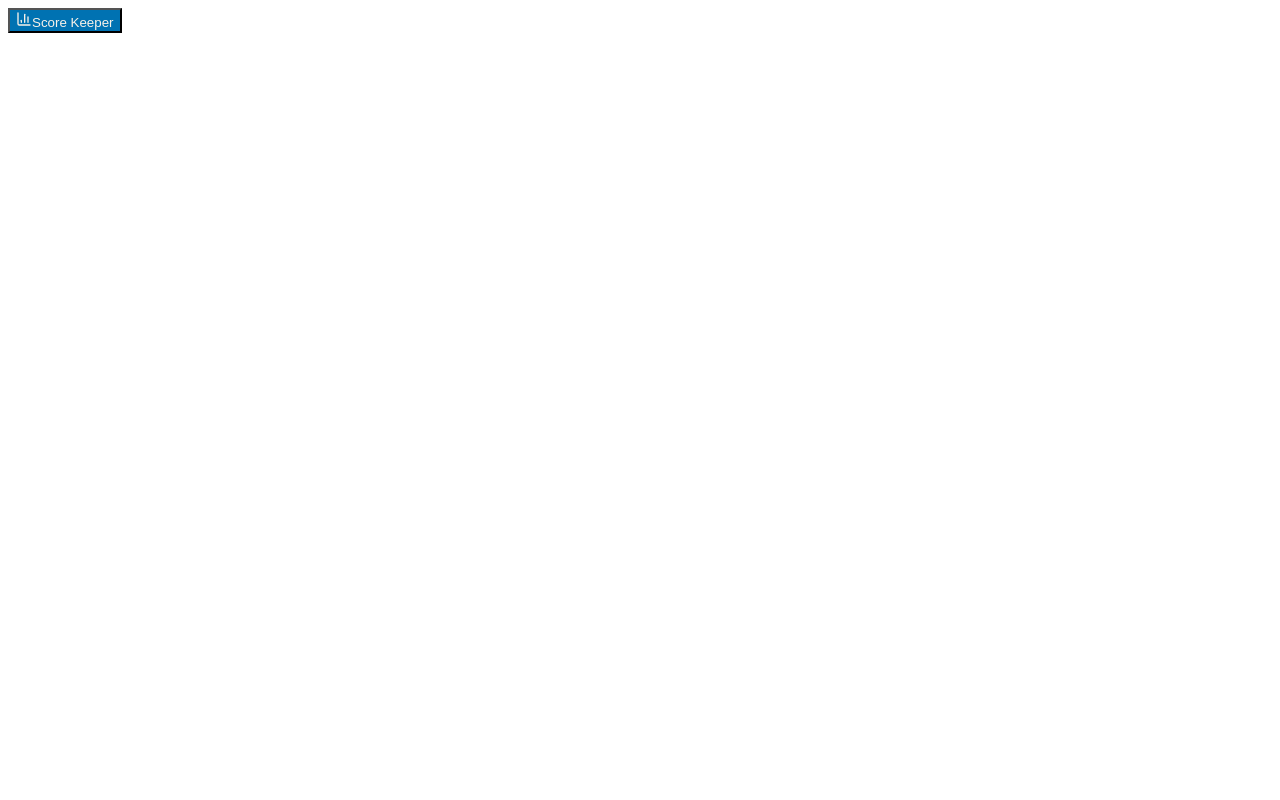
lobby Subscribe chip › opens an explainer listing the three benefits
Click the button with test id "lobby-subscribe". click: coordinates (65, 20)
box: [8,8,122,33]
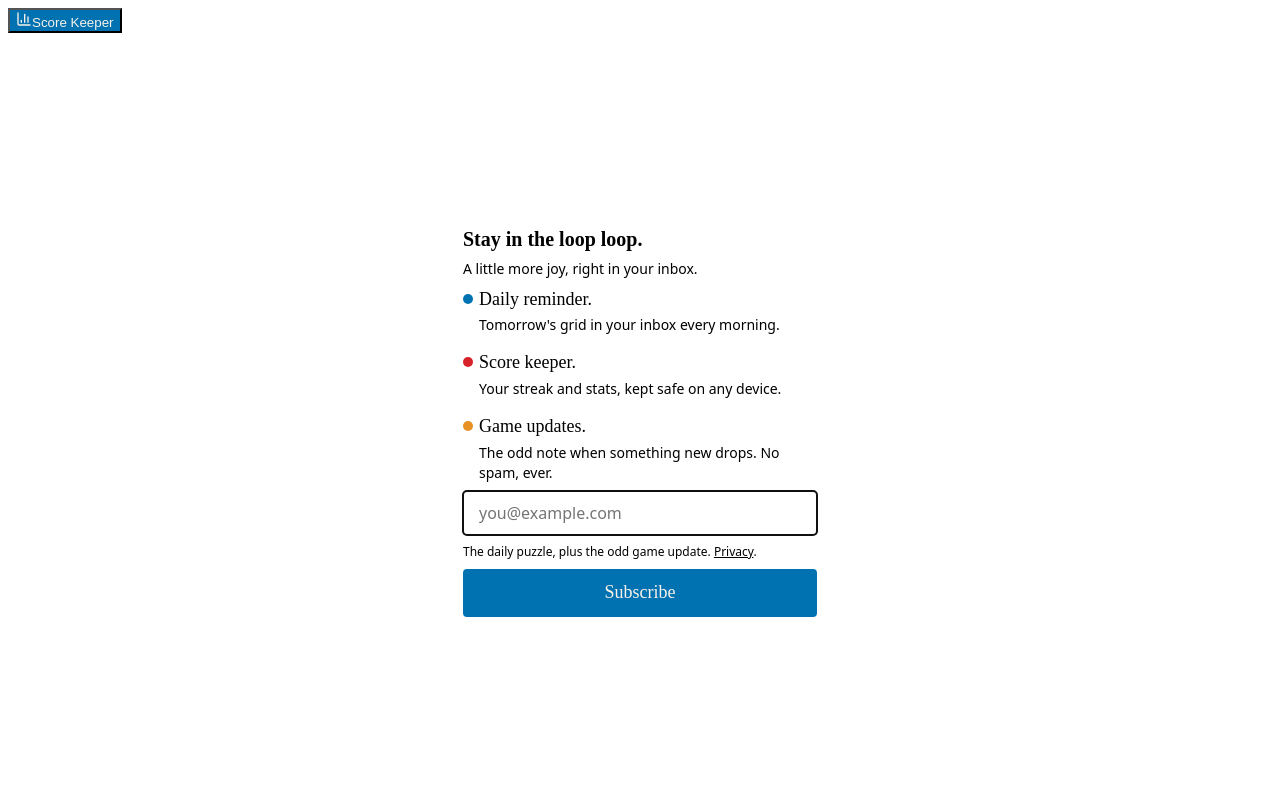
Check: the heading "Stay in the loop loop." is shown, box [463,228,642,250]
